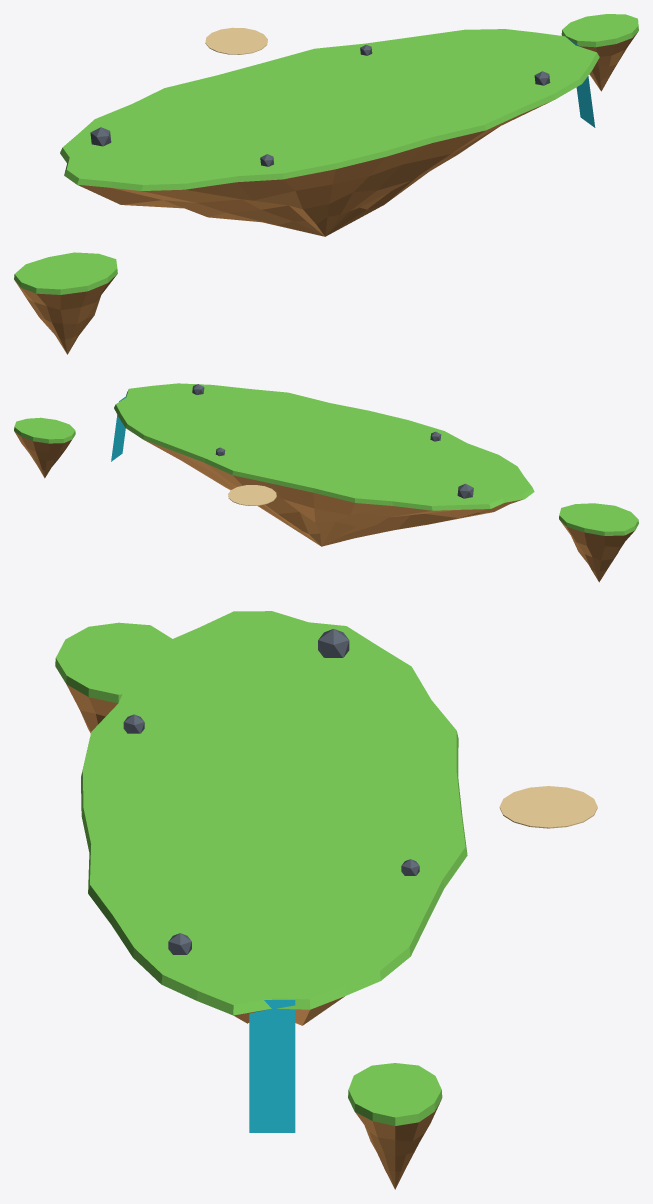
File: Island_Sunnyville.fbx
3 renders of one model, top to bottom at view 1: azimuth 30°, elevation 25°; view 2: azimuth 150°, elevation 25°; view 3: azimuth 270°, elevation 25°, orthographic. The views are drawn at different scales.
Visible parts, largest first — view 1: Island_Sunnyville_Mesh, Island_Sunnyville; view 2: Island_Sunnyville_Mesh, Island_Sunnyville; view 3: Island_Sunnyville_Mesh, Island_Sunnyville.
Part boxes in pixels (bbox=[...]): Island_Sunnyville_Mesh: bbox=[60, 27, 599, 236]; Island_Sunnyville: bbox=[14, 14, 638, 354]; Island_Sunnyville_Mesh: bbox=[111, 383, 534, 546]; Island_Sunnyville: bbox=[14, 417, 638, 582]; Island_Sunnyville_Mesh: bbox=[81, 611, 597, 1132]; Island_Sunnyville: bbox=[55, 622, 442, 1189].
Size of what is drawn, in the model's own units: 82.79 by 17.08 by 35.35.
